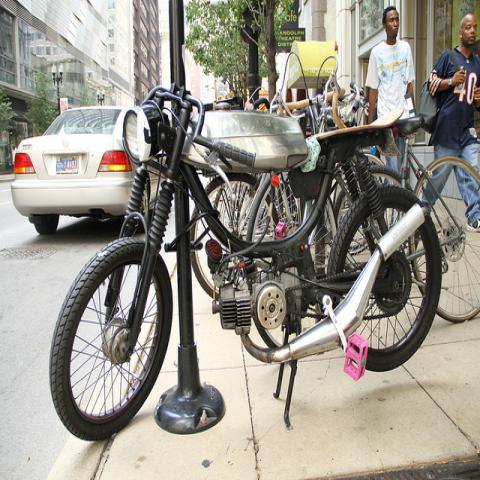car: (11, 106, 137, 234)
motorcycle: (56, 77, 440, 440)
